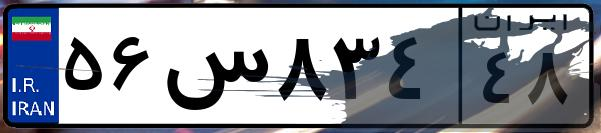3: (330, 28, 385, 110)
4: (385, 28, 445, 110), (475, 38, 525, 113)
5: (57, 26, 110, 100)
6: (110, 28, 158, 98)
8: (270, 28, 330, 110), (525, 38, 570, 115)
س: (158, 20, 270, 120)
